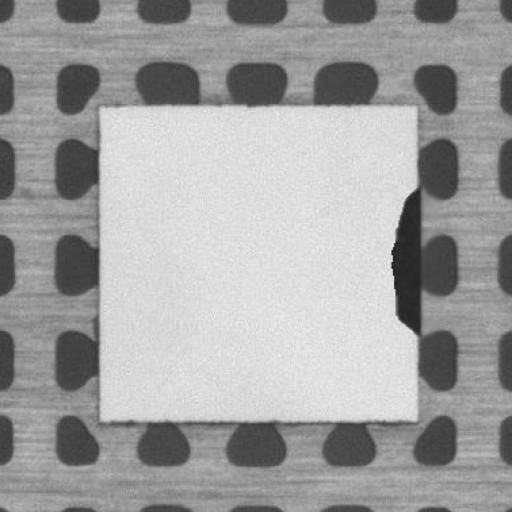DIE_BROKEN: (388, 181, 422, 338)
